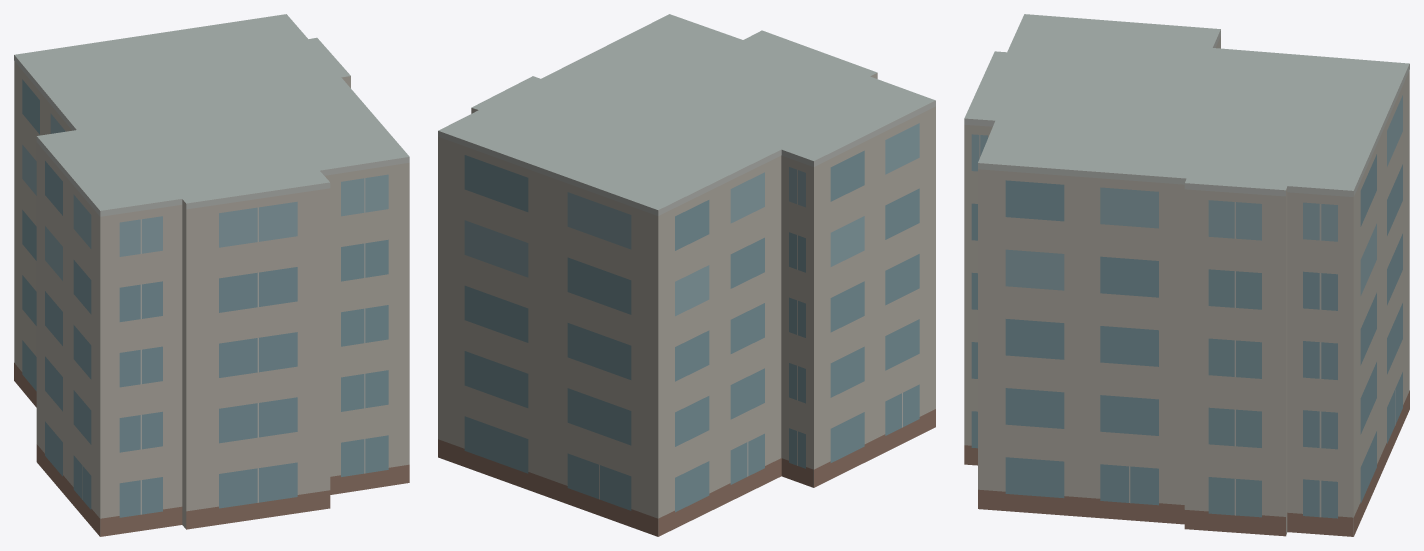
Rendered from survey-upis-32675079.glb.
3 views of the same model, side by side, from view 1: azimuth 30°, elevation 25°; view 2: azimuth 150°, elevation 25°; view 3: azimuth 270°, elevation 25° (orthographic). The views are drawn at different scales.
Visible parts, largest first — view 1: survey-upis-32675079.tmp; view 2: survey-upis-32675079.tmp; view 3: survey-upis-32675079.tmp.
Boxes of the visible parts, x1,y1,x2,y2 form: survey-upis-32675079.tmp: (14,14,409,536); survey-upis-32675079.tmp: (438,14,935,536); survey-upis-32675079.tmp: (964,14,1409,536).
Bounding box in the file's own units: 14.81 × 13.5 × 15.76.
